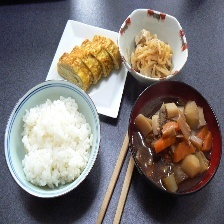rice: (16, 93, 96, 191)
